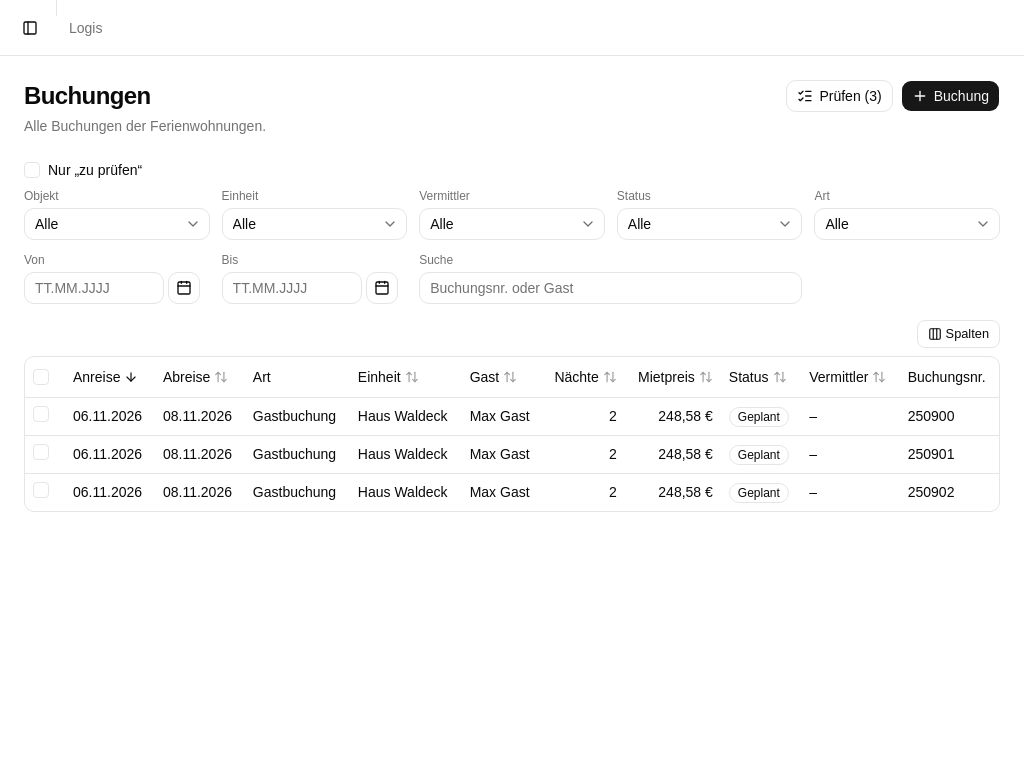
Test case: Bulk actions on bookings › deletes after confirmation; a settled booking fails with the server message
Click the checkbox named "Alle auf dieser Seite auswählen". click: click(41, 377)
box: top-left (33, 369), bottom-right (49, 385)
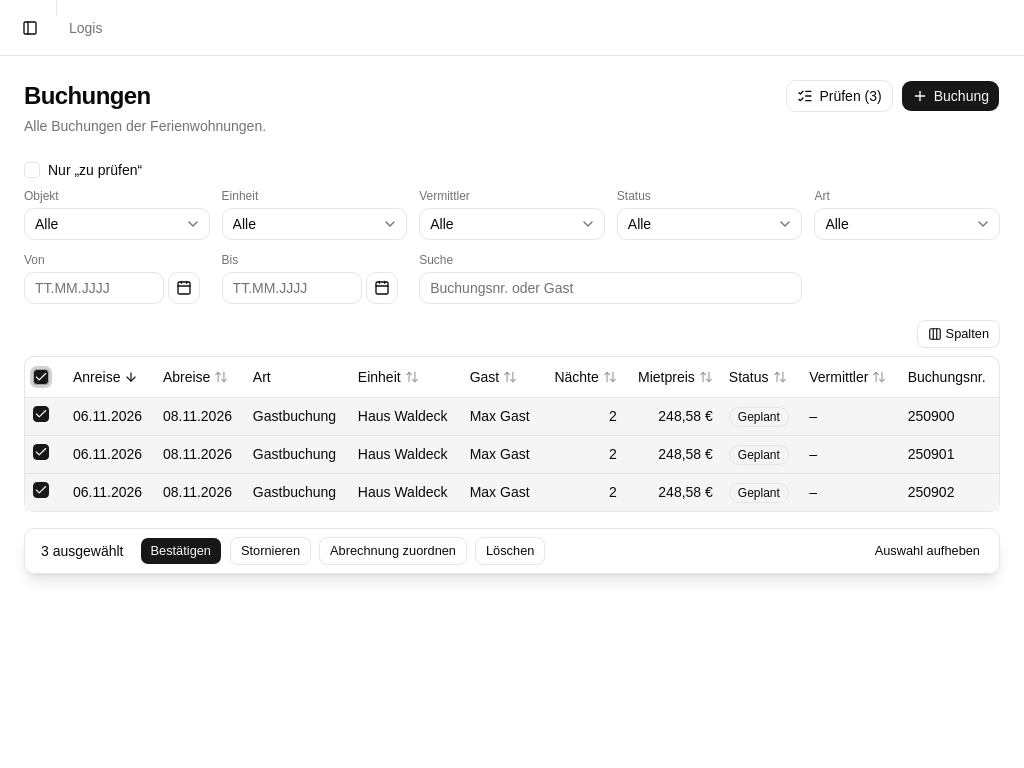
Click the button "Löschen". click: click(510, 550)
box: top-left (475, 536), bottom-right (545, 564)
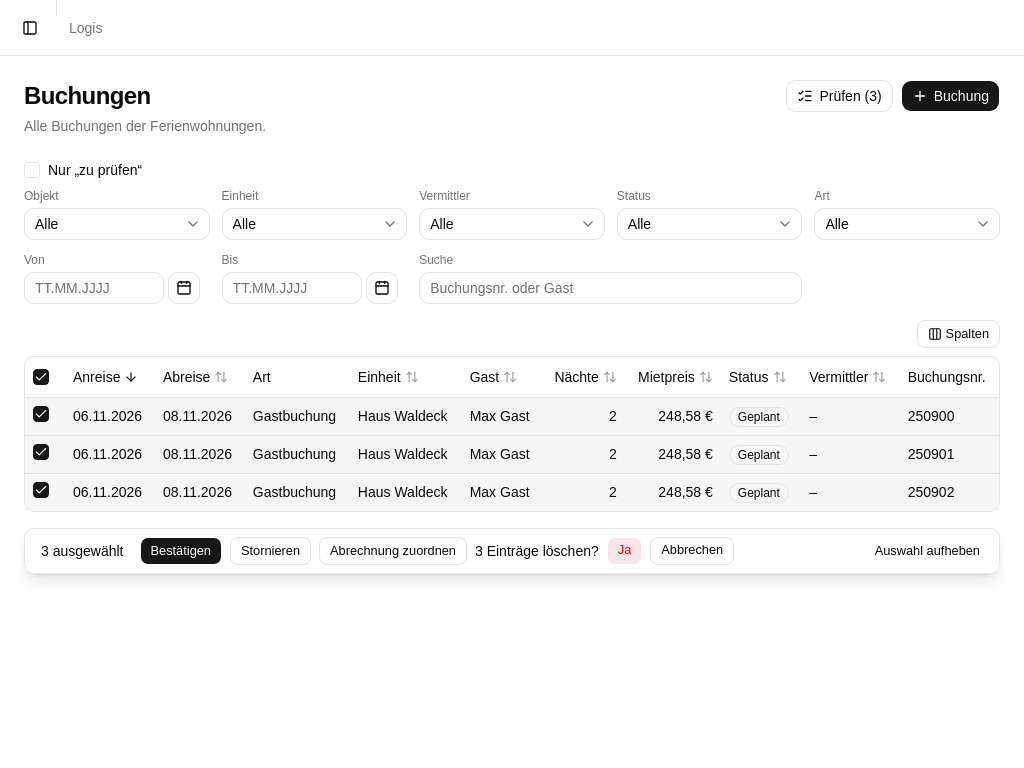
Now the text "3 Einträge löschen?" is shown, box top-left (475, 540), bottom-right (599, 560)
Click the button "Ja". click: click(625, 550)
box: top-left (607, 536), bottom-right (642, 564)
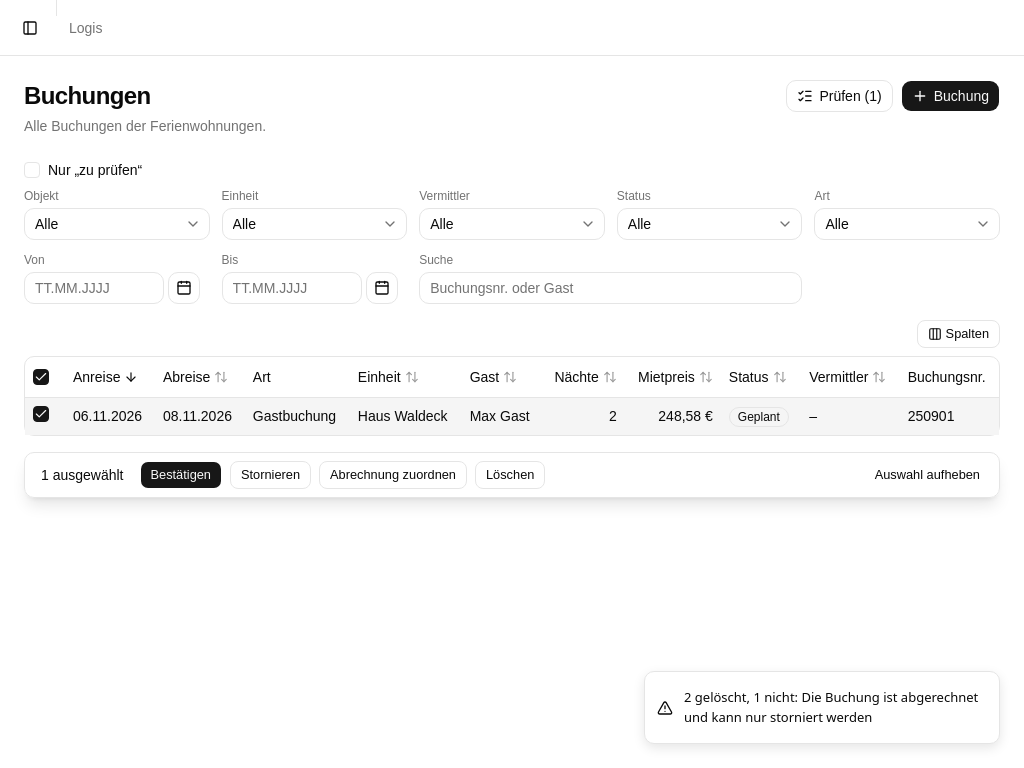
Now the text "2 gelöscht, 1 nicht: Die Buchung ist abgerechnet und kann nur storniert werden" is shown, box top-left (684, 688), bottom-right (983, 727)
Now the number of rows "buchung" is 1, box top-left (25, 397), bottom-right (999, 434)
